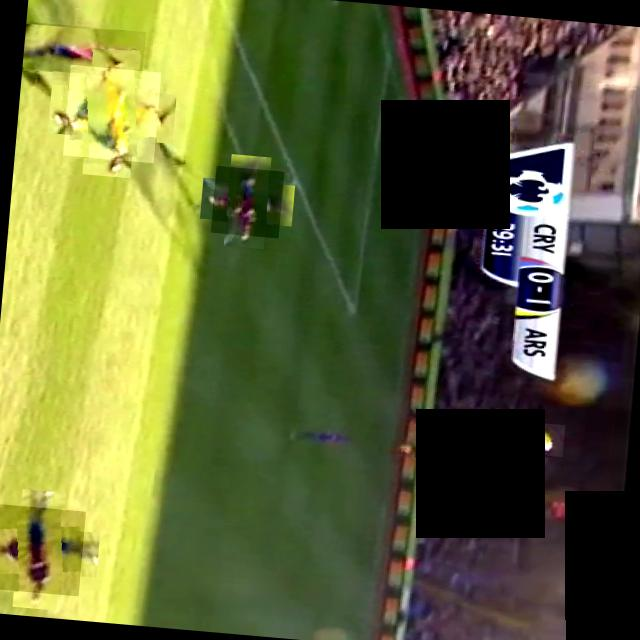ball: (527, 422, 564, 456)
soccer-player: (61, 64, 160, 163), (0, 504, 84, 596), (20, 22, 144, 78), (209, 165, 283, 238)
